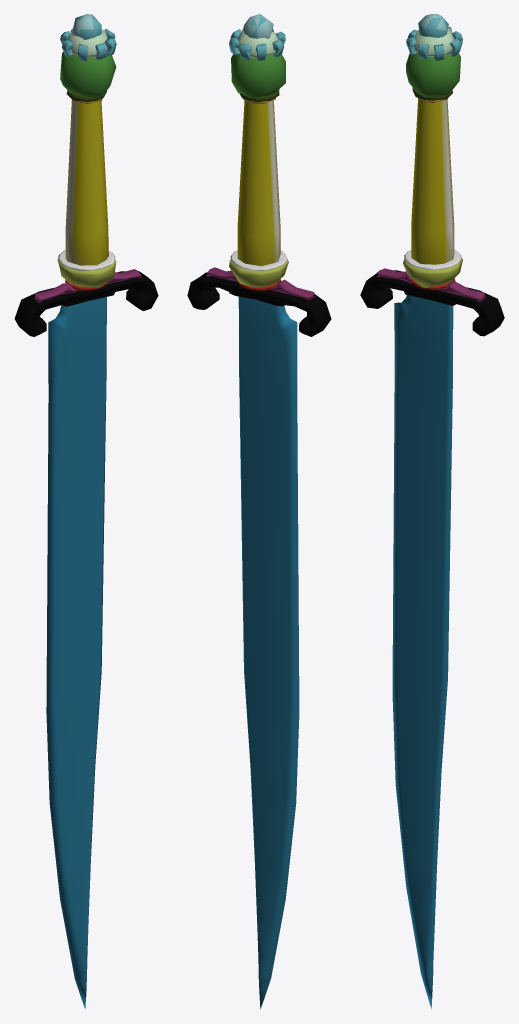
File: SM_Sword1f.FBX
3 views of the same model, side by side, from view 1: azimuth 30°, elevation 25°; view 2: azimuth 150°, elevation 25°; view 3: azimuth 330°, elevation 25° (orthographic).
Visible parts, largest first — view 1: SM_Sword1f; view 2: SM_Sword1f; view 3: SM_Sword1f.
Boxes of the visible parts, x1=… form: SM_Sword1f: x1=14, y1=14, x2=158, y2=1008; SM_Sword1f: x1=187, y1=14, x2=331, y2=1009; SM_Sword1f: x1=360, y1=14, x2=504, y2=1009.
Bounding box in the file's own units: 14.39 × 5.79 × 104.
